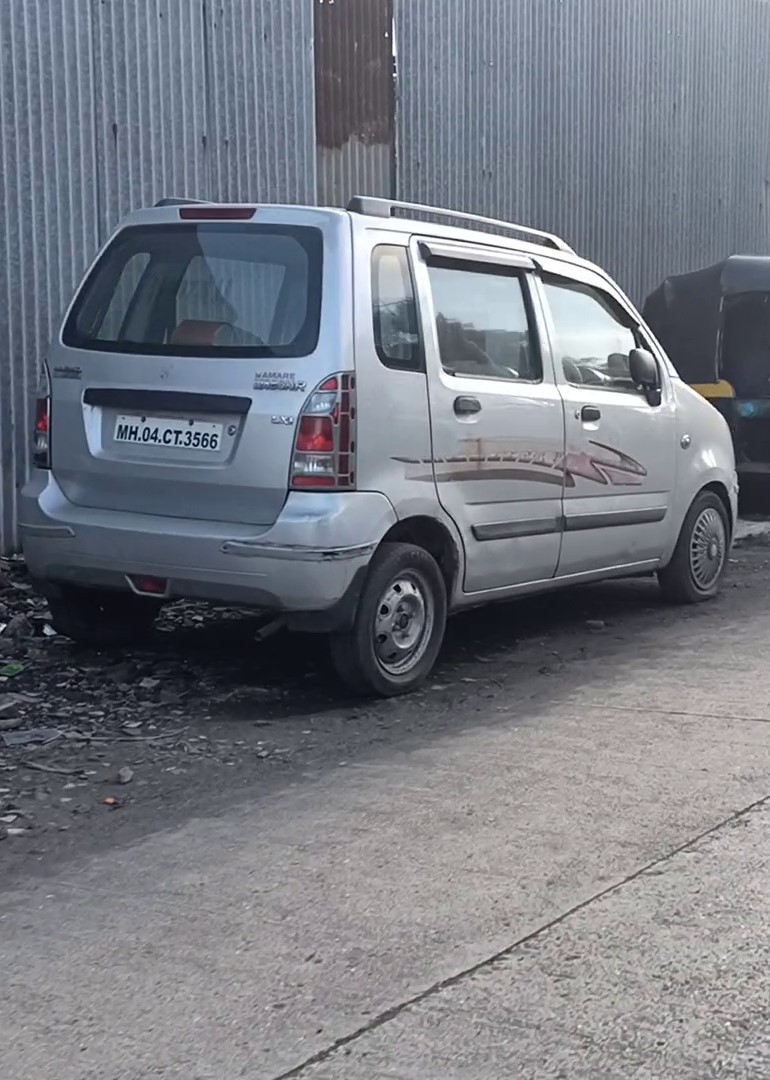MH04CT3566: (114, 410, 223, 455)
